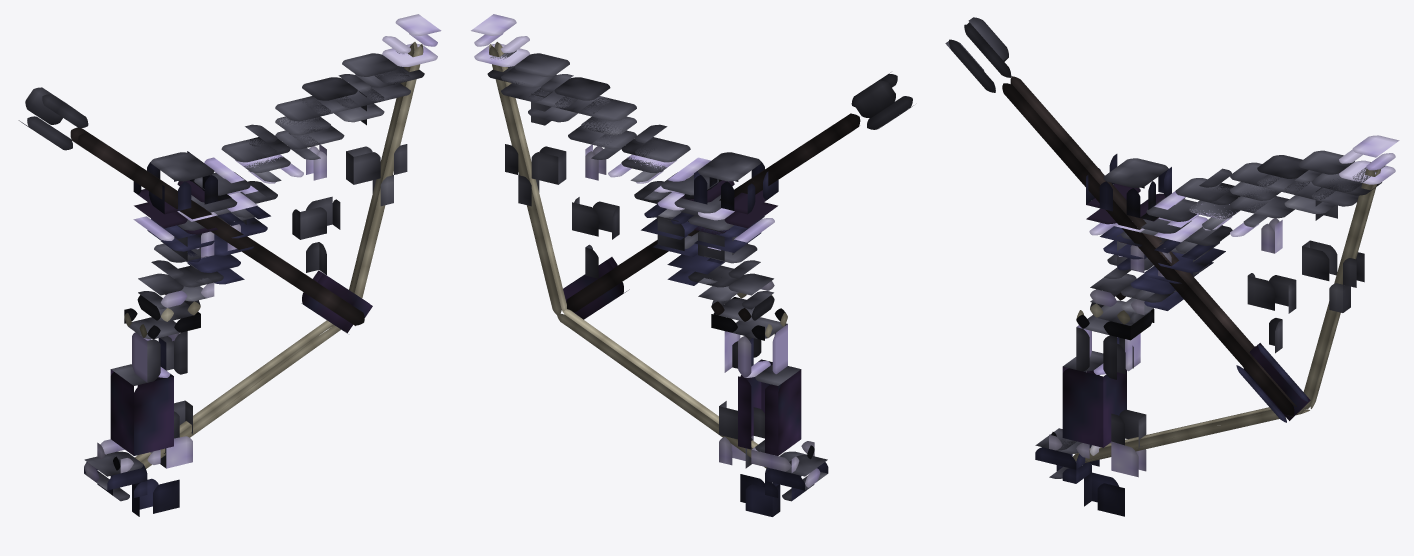
The model's file is crowfletch_bow_pulling_2.obj.
3 renders of one model, left to right at view 1: azimuth 30°, elevation 25°; view 2: azimuth 150°, elevation 25°; view 3: azimuth 330°, elevation 25°, orthographic.
Parts seen in each view (by area): view 1: lit, fire; view 2: lit, fire; view 3: lit, fire.
Part boxes in pixels (x1,y1,x2,y2): lit: (18, 14, 441, 516); fire: (301, 270, 372, 333); lit: (471, 14, 913, 516); fire: (563, 257, 629, 319); lit: (945, 17, 1399, 516); fire: (1236, 343, 1310, 422).
Bounding box in the file's own units: 0.9821 × 1.09 × 0.1282.
